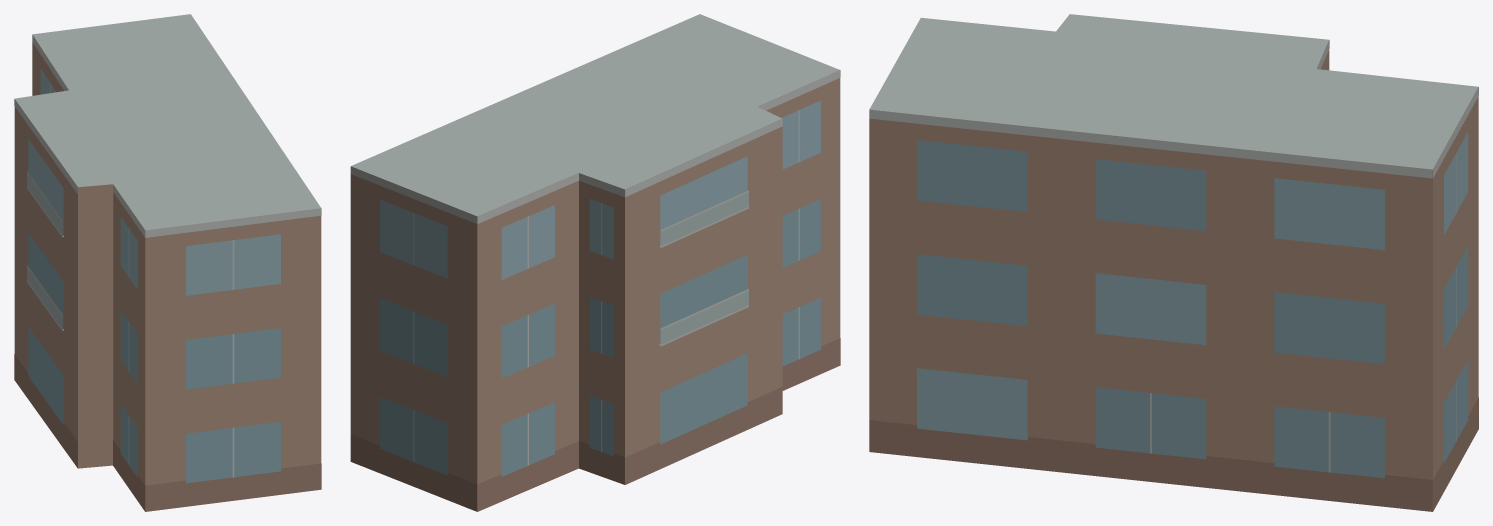
Rendered from survey-upis-32721687.glb.
3 views of the same model, side by side, from view 1: azimuth 30°, elevation 25°; view 2: azimuth 150°, elevation 25°; view 3: azimuth 270°, elevation 25° (orthographic). The views are drawn at different scales.
Parts seen in each view (by area): view 1: survey-upis-32721687.tmp; view 2: survey-upis-32721687.tmp; view 3: survey-upis-32721687.tmp.
Part boxes in pixels (x1=…): survey-upis-32721687.tmp: x1=14, y1=14, x2=321, y2=511; survey-upis-32721687.tmp: x1=350, y1=14, x2=840, y2=511; survey-upis-32721687.tmp: x1=869, y1=14, x2=1478, y2=511.
Size of the model in its own units: 9.09 by 9.31 by 15.04.
